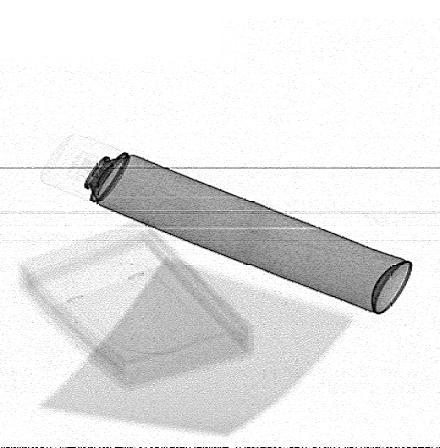Sprayer: (41, 132, 413, 314)
